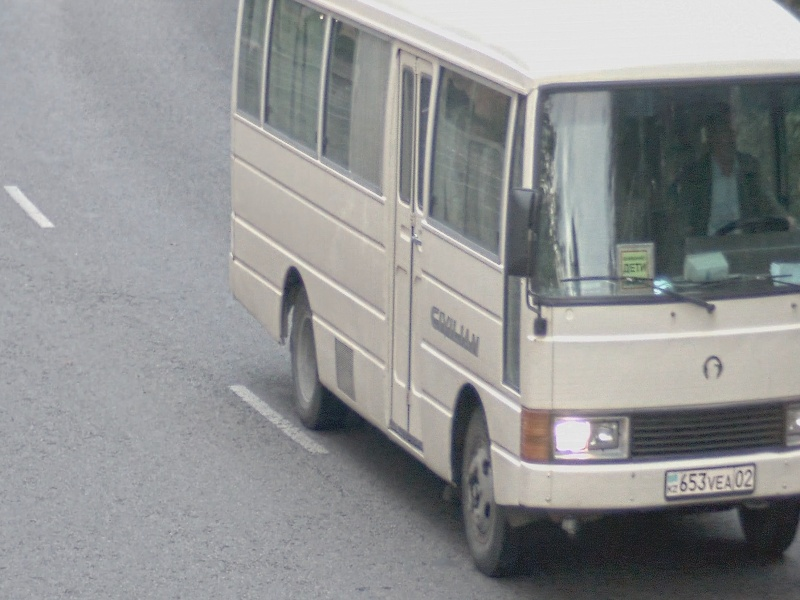plate: (664, 462, 757, 499)
